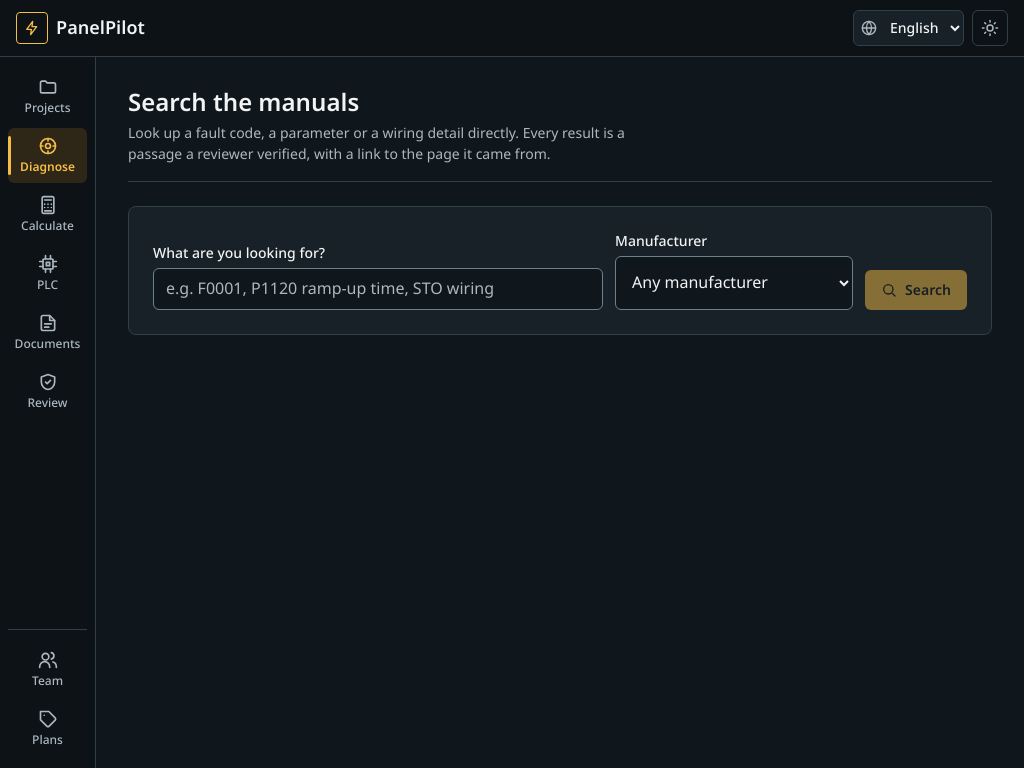
Test case: the search page › shows each passage with its source, at its page
In the search field labelled "What are you looking for?": (378, 289) [153, 268, 603, 310], type "  F0001  "
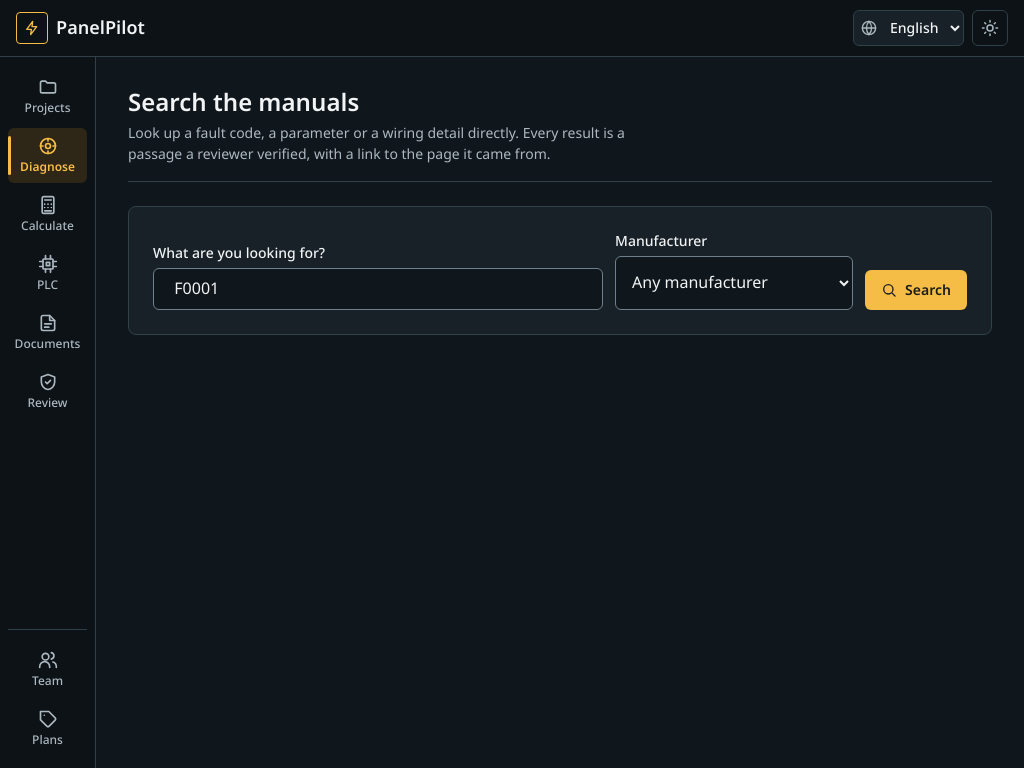
Result: the button "Search" is enabled
Click the button "Search": (916, 290) [865, 270, 967, 310]
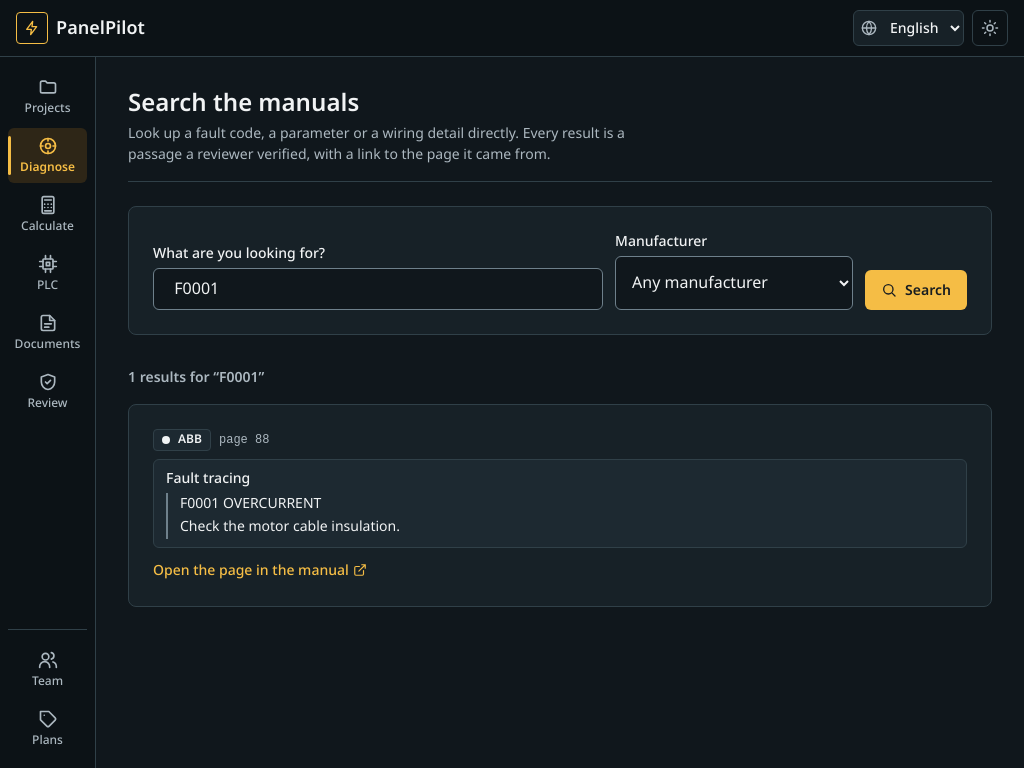
Result: the element with test id "passage-c1" shows "Check the motor cable insulation." at [180, 489, 400, 541]
Result: the element with test id "passage-c1" shows "page 88" at [219, 433, 269, 447]
Result: the heading "1 results for “F0001”" is shown at [128, 363, 264, 392]
